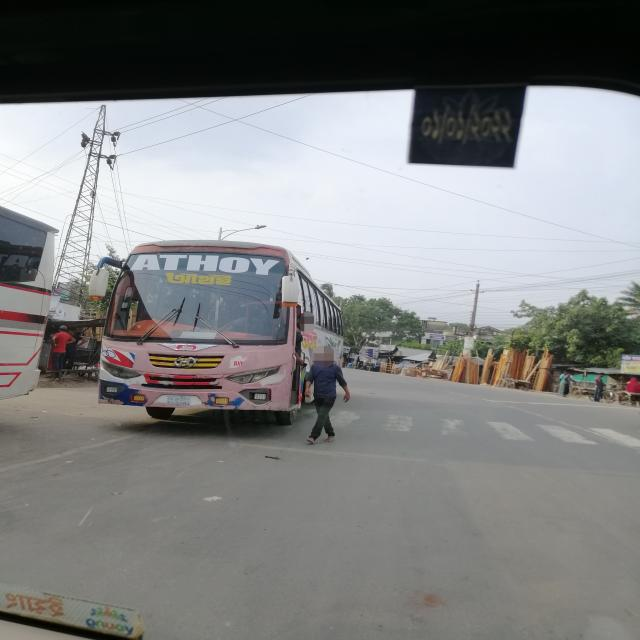Bus: (85, 237, 306, 430)
